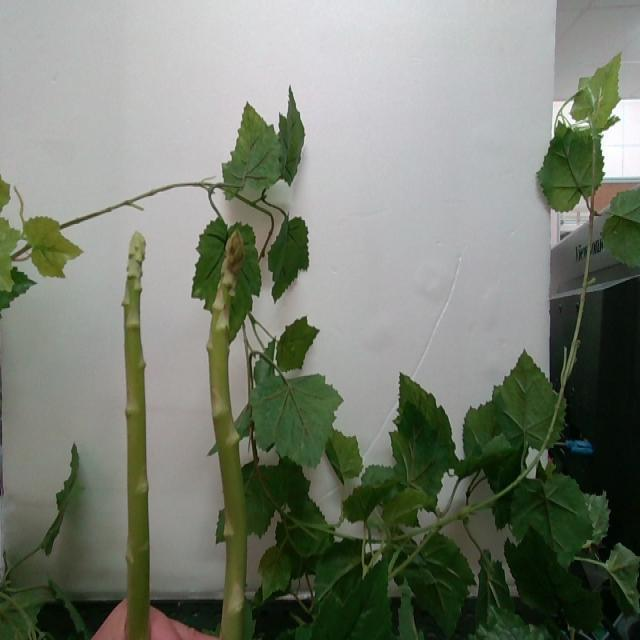aspargus: (207, 229, 246, 640), (122, 235, 152, 640)
